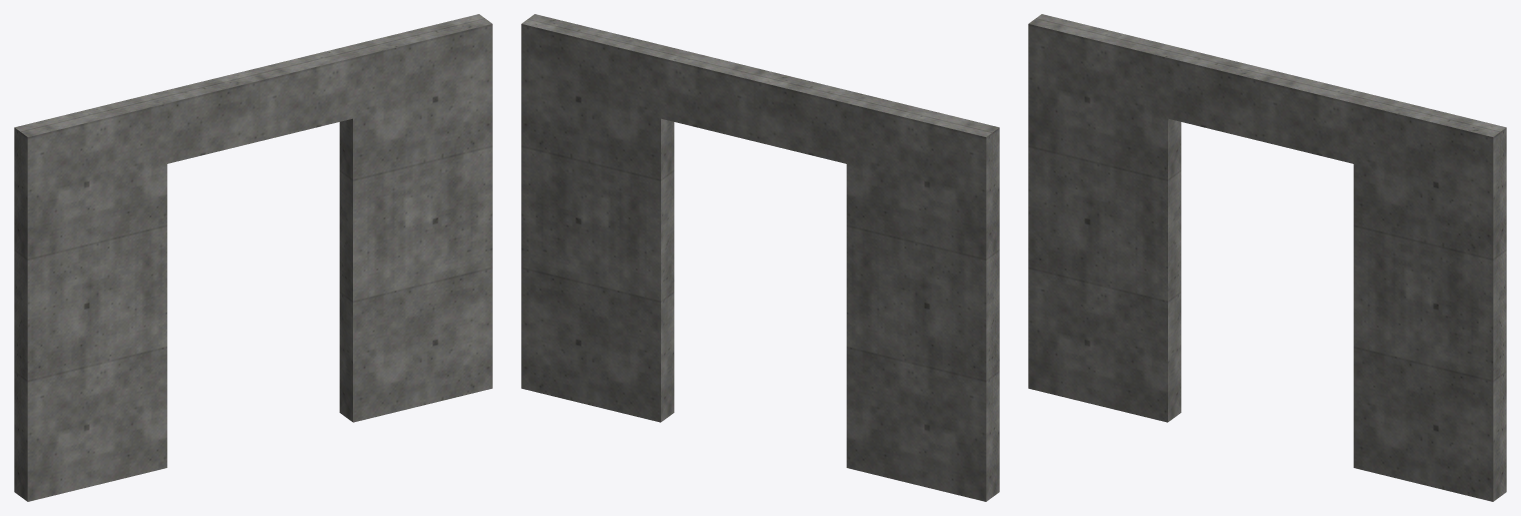
The model's file is Wall_Door.fbx.
3 renders of one model, left to right at view 1: azimuth 30°, elevation 25°; view 2: azimuth 150°, elevation 25°; view 3: azimuth 330°, elevation 25°, orthographic.
Visible parts, largest first — view 1: Wall_Door; view 2: Wall_Door; view 3: Wall_Door.
Boxes of the visible parts, <box> form: Wall_Door: <box>14,14,492,501</box>; Wall_Door: <box>521,14,999,501</box>; Wall_Door: <box>1028,14,1506,501</box>.
Bounding box in the file's own units: 4 × 3 × 0.2.
1 material, 1 textured.
